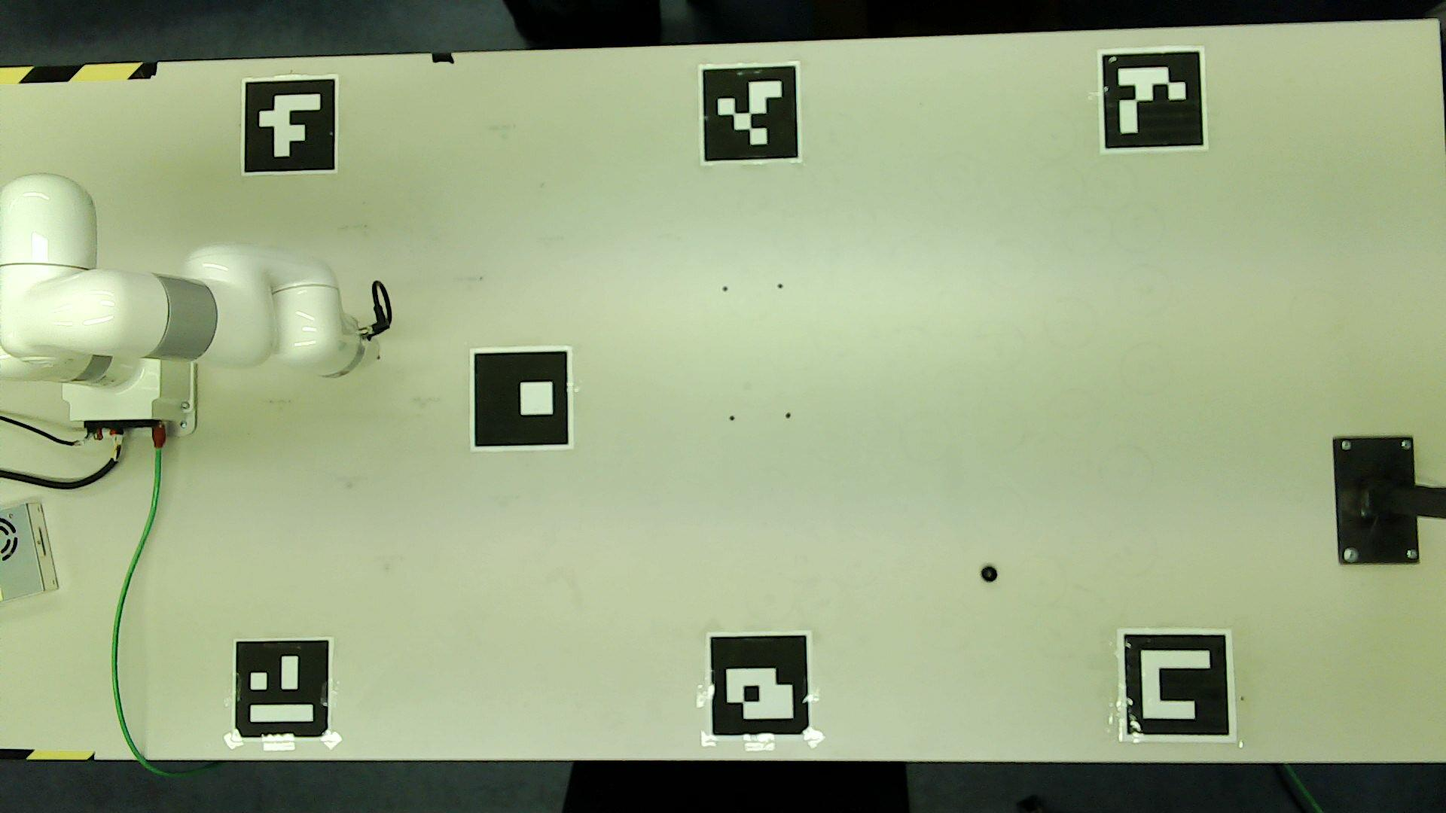ball: (982, 567, 996, 582)
